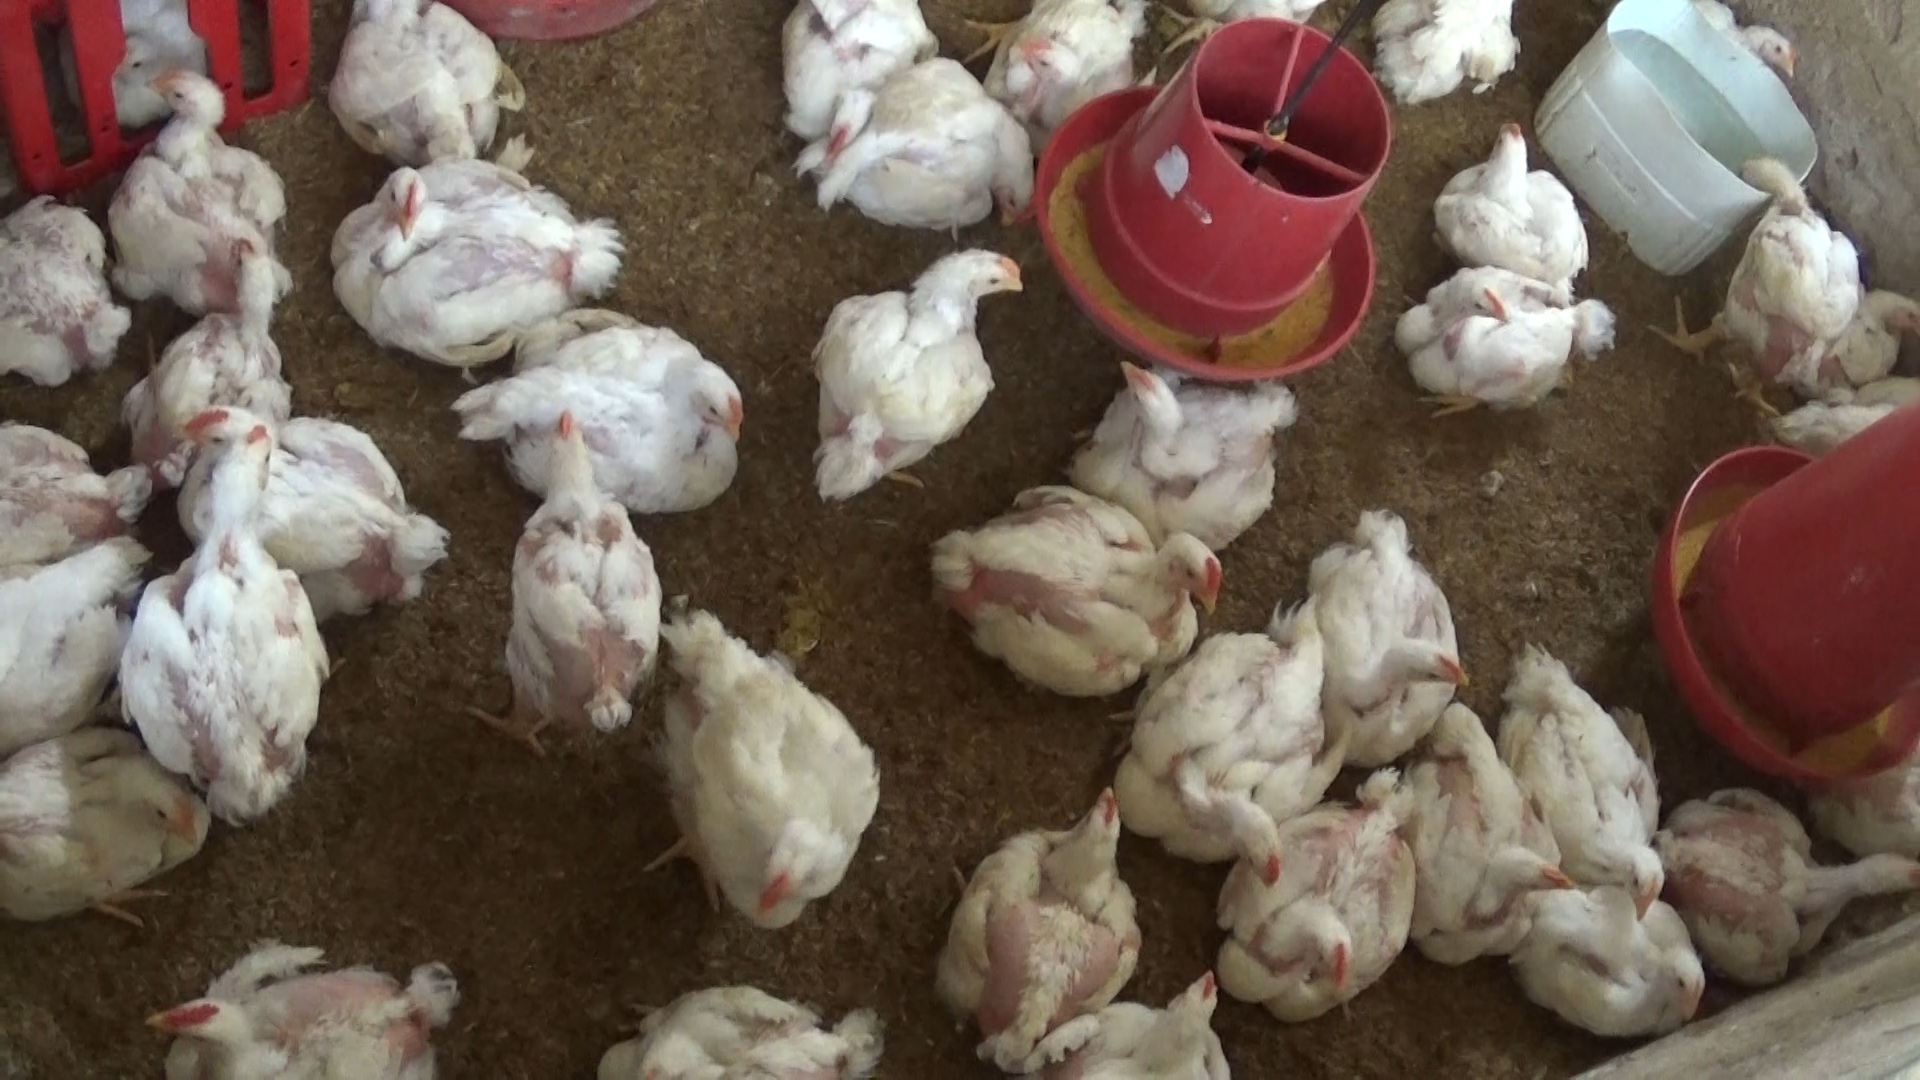Pollos: (132, 436, 351, 818), (644, 588, 887, 923), (911, 766, 1155, 1065), (920, 479, 1230, 712), (454, 311, 775, 529), (495, 386, 676, 748), (340, 127, 616, 361), (1656, 757, 1920, 1002), (800, 241, 1040, 506), (82, 69, 316, 324), (173, 397, 456, 603), (145, 911, 485, 1080), (1117, 626, 1332, 886), (1266, 504, 1465, 781), (1391, 680, 1585, 957), (1497, 637, 1692, 911), (1232, 785, 1425, 1021), (816, 58, 1026, 273), (0, 744, 227, 938), (1515, 841, 1727, 1038), (1408, 248, 1610, 454), (1085, 359, 1296, 545), (564, 945, 852, 1080), (305, 0, 535, 157), (1702, 123, 1844, 377), (109, 284, 309, 448), (0, 189, 138, 404), (0, 535, 167, 712), (1427, 105, 1590, 284), (757, 0, 956, 142), (978, 0, 1149, 156), (1350, 0, 1524, 132), (1054, 967, 1253, 1080), (1821, 272, 1920, 402), (1685, 0, 1803, 92)
